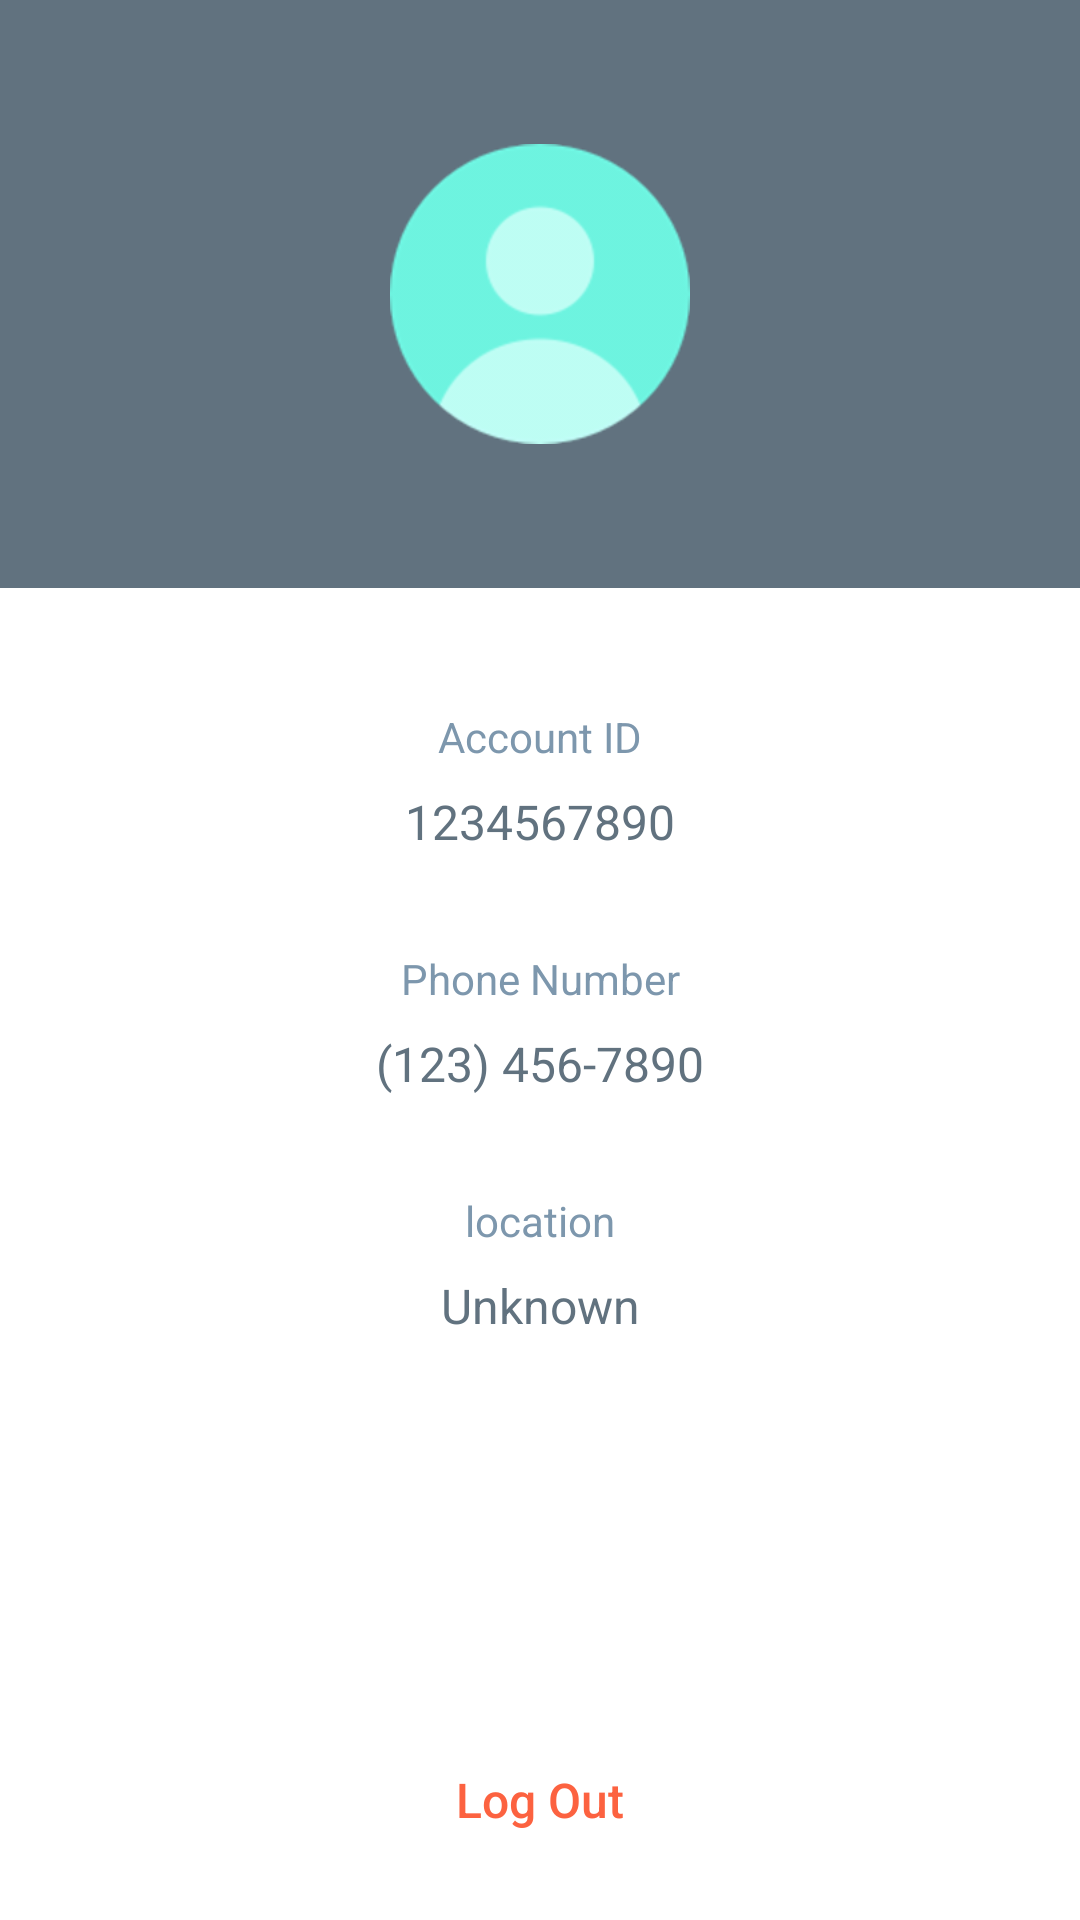

Where to tap for icons on this 1080×1920 app screen, as [x,y]:
profile empty: [540,294]
